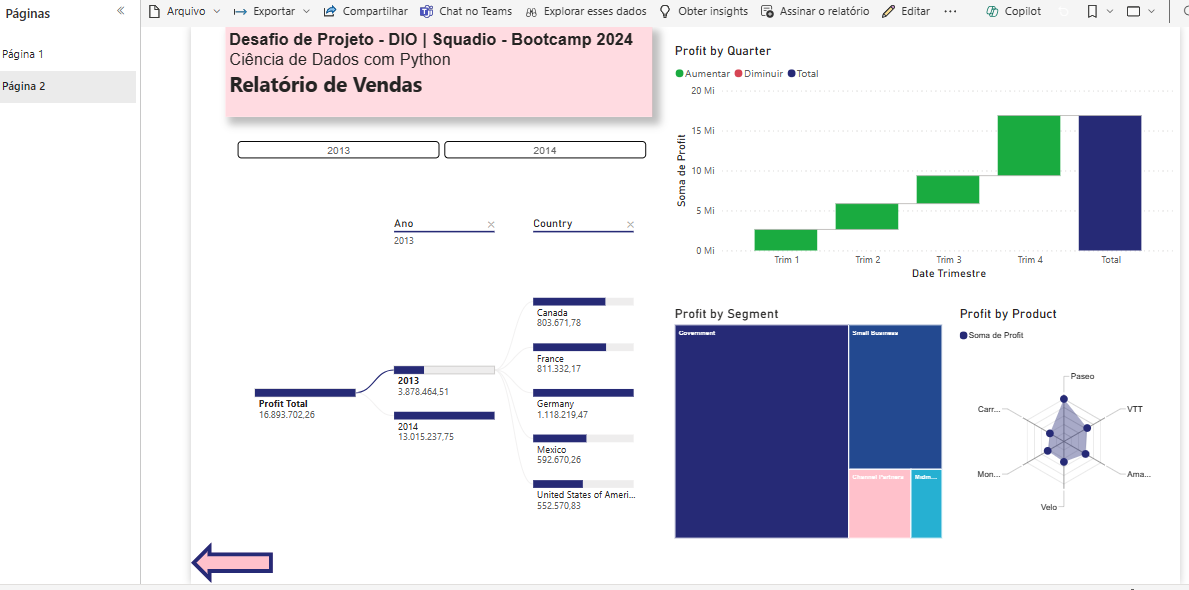

The page's visual inventory and layout, read from the dashboard file:
{"tool":"powerbi","page":{"name":"Página 2","canvas":[1280,720],"ordinal":1},"visuals":[{"type":"ChicletSlicer1448559807354","fields":{"Category":["financials.Date.Variation.Hierarquia de datas.Ano"]},"box":[53.1,126.6,543.9,65.1],"z":1000},{"type":"RadarChart1446119667547","title":"Profit by Product","fields":{"Y":["Sum(financials.Profit)"],"Category":["financials.Product"]},"box":[990.2,360.6,279.8,306.3],"z":2000},{"type":"treemap","title":"Profit by Segment","fields":{"Values":["Sum(financials.Profit)"],"Group":["financials.Segment"]},"box":[621.1,360.6,355.8,306.3],"z":3000},{"type":"decompositionTreeVisual","fields":{"Analyze":["Sum(financials.Profit)"],"ExplainBy":["financials.Date.Variation.Hierarquia de datas.Ano","financials.Country"]},"box":[53.1,229.1,543.9,466.7],"z":4000},{"type":"waterfallChart","title":"Profit by Quarter","fields":{"Y":["Sum(financials.Profit)"],"Category":["financials.Date.Variation.Hierarquia de datas.Trimestre"]},"box":[621.1,19.3,658.5,312.4],"z":5000},{"type":"textbox","box":[44.6,0,553,116.6],"z":6000},{"type":"shape","box":[0,667,106,53],"z":7000}]}

Visuals, with their boxes on the page's 1280x720 design canvas (x1, y1, x2, y2). These are canvas units, not pixel positions in the 1189x590 screenshot, which may show the page scaled, cropped or inside an application window:
ChicletSlicer1448559807354 - financials.Date.Variation.Hierarquia de datas.Ano: pyautogui.locateOnScreen(53, 127, 597, 192)
"Profit by Product" RadarChart1446119667547: pyautogui.locateOnScreen(990, 361, 1270, 667)
"Profit by Segment" treemap: pyautogui.locateOnScreen(621, 361, 977, 667)
decompositionTreeVisual - Sum(financials.Profit) x financials.Date.Variation.Hierarquia de datas.Ano: pyautogui.locateOnScreen(53, 229, 597, 696)
"Profit by Quarter" waterfallChart: pyautogui.locateOnScreen(621, 19, 1280, 332)
textbox: pyautogui.locateOnScreen(45, 0, 598, 117)
shape: pyautogui.locateOnScreen(0, 667, 106, 720)
